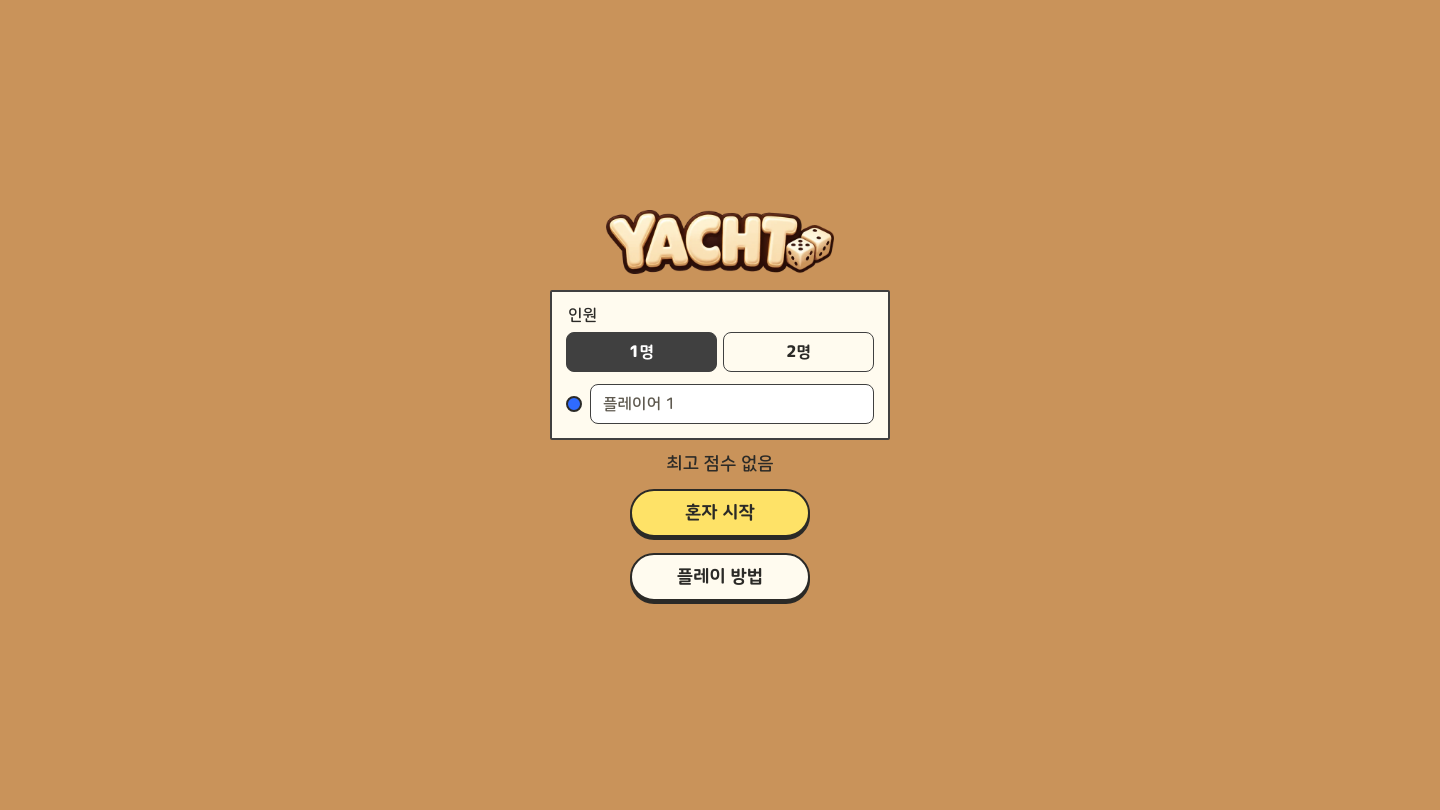
Test: 시작 화면에서 여는 플레이 방법 › 족보 탭은 12개 카테고리를 점수표 이름으로 예시 점수와 함께 보여 주고, 끝에 윗칸 보너스를 적는다
Click the button "플레이 방법" at (720, 576), box [630,552,810,600]
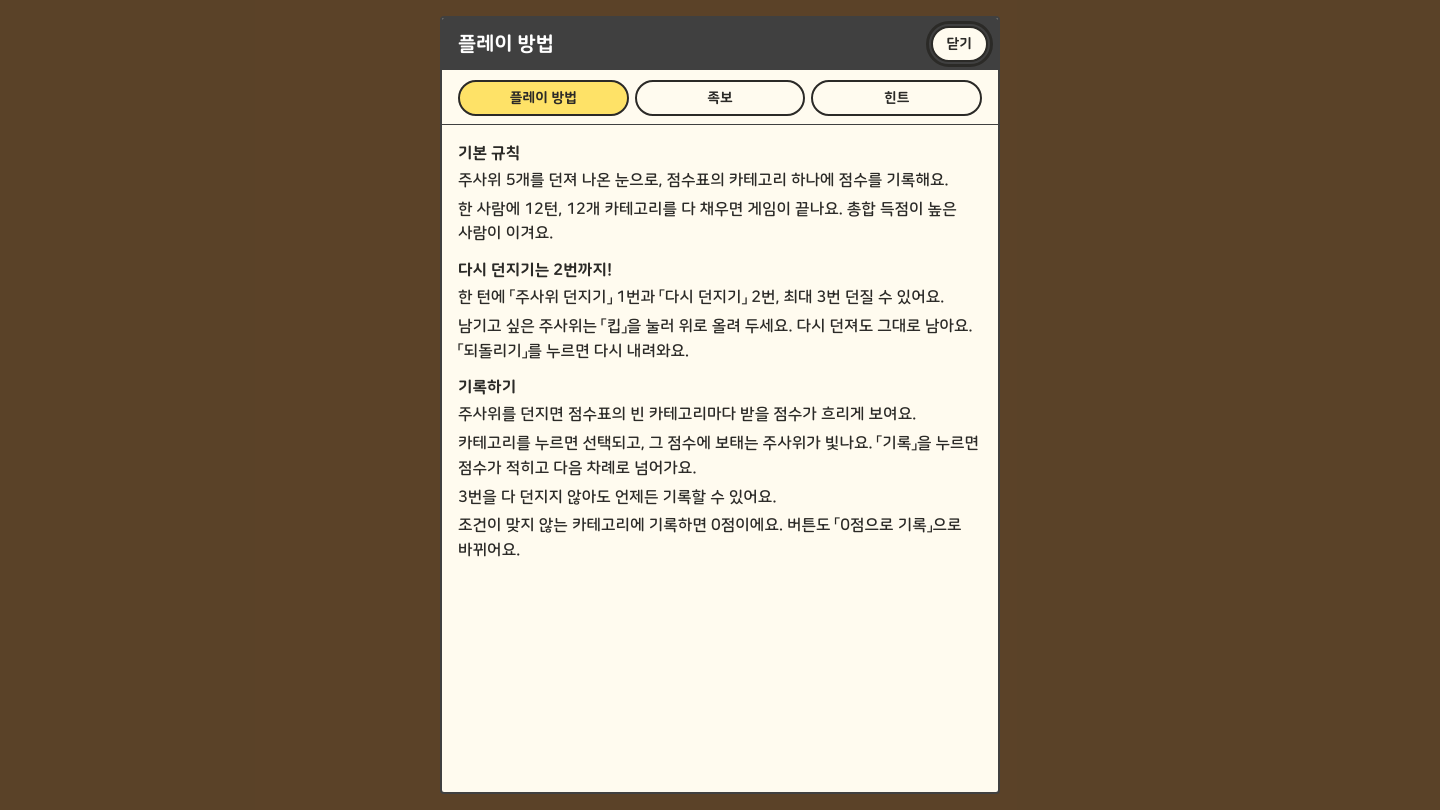
Click the tab "족보" at (720, 98), box [635,80,805,116]
(page scrolled)
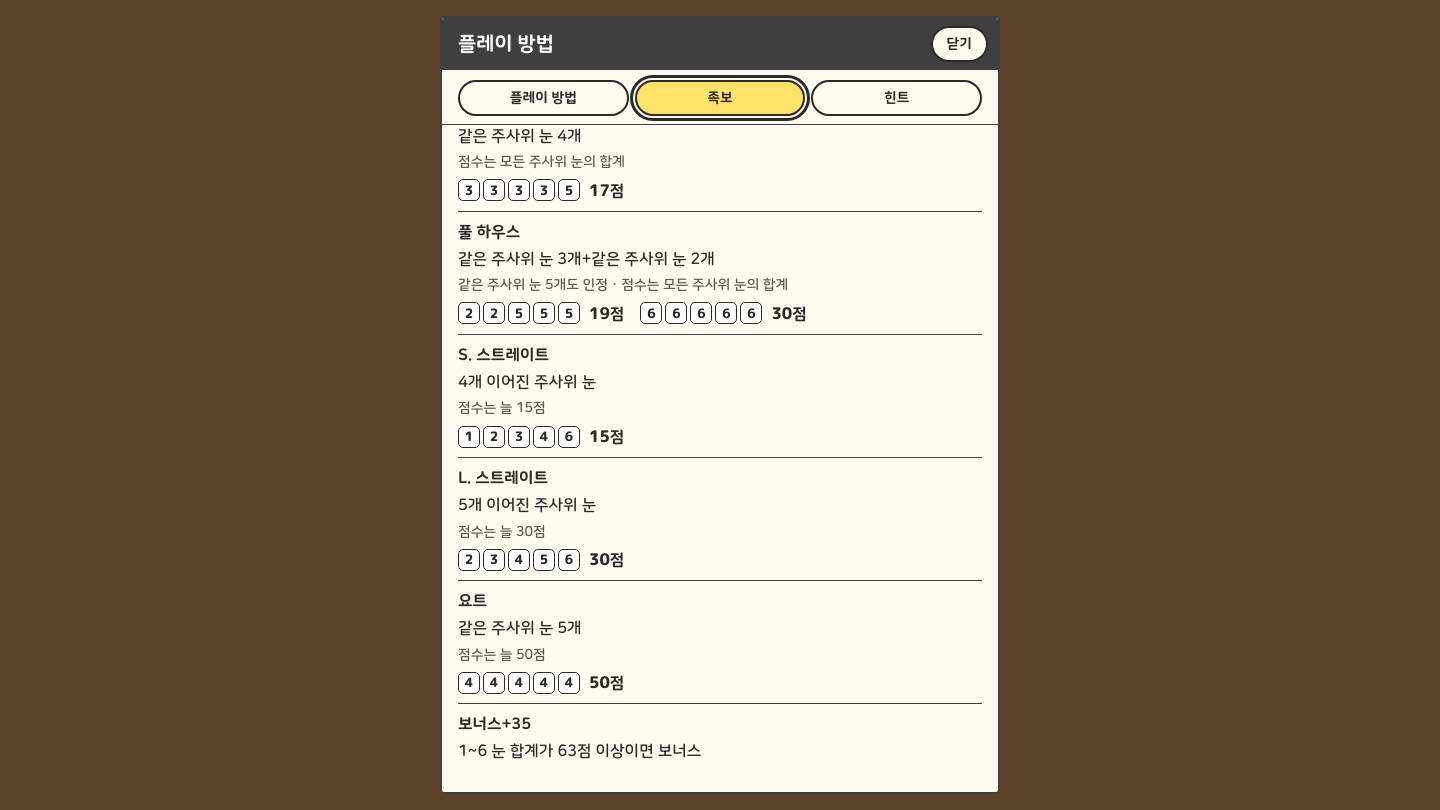
Expected: the list item "보너스+35 1~6 눈 합계가 63점 이상이면 보너스" is shown, [458,715,701,760]
